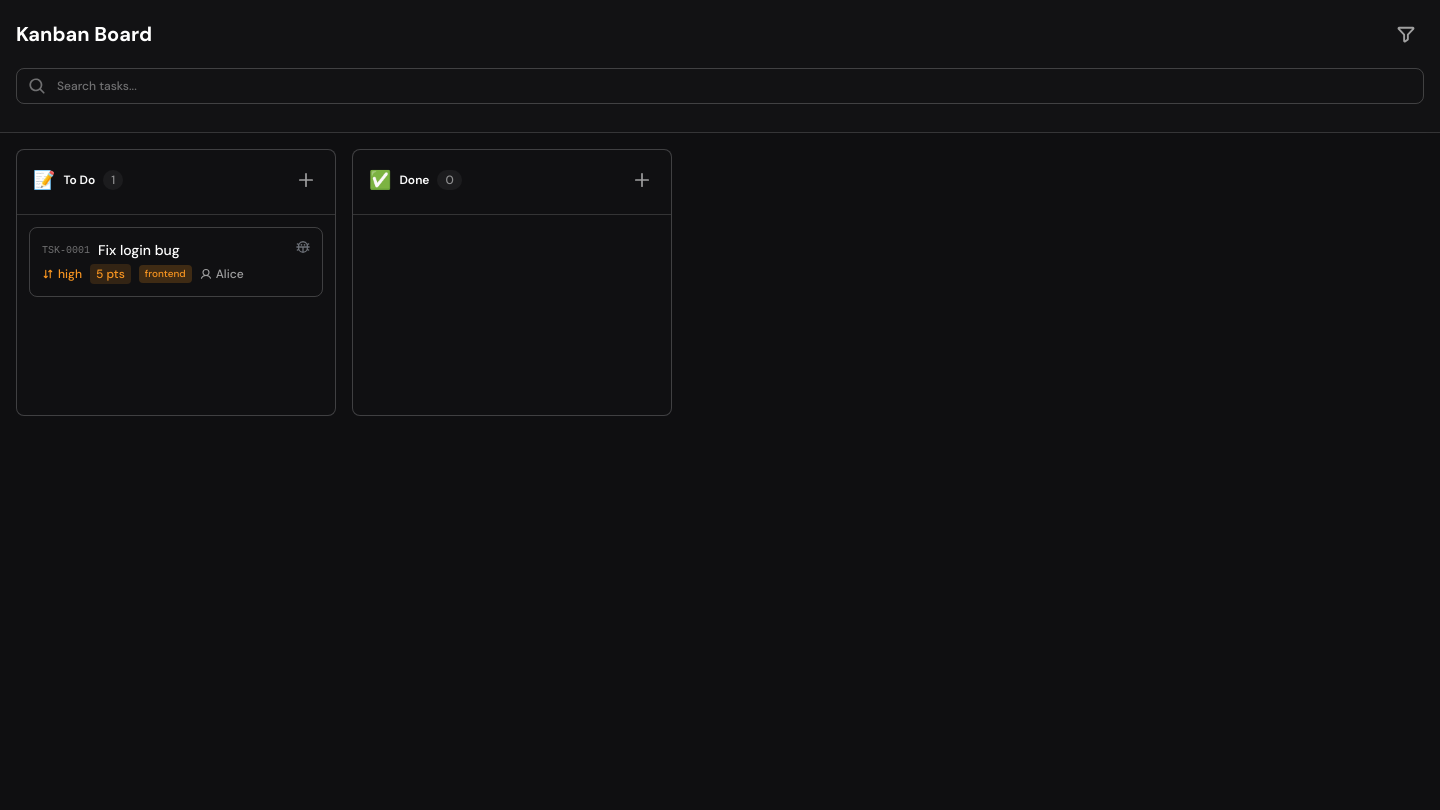
it: KanbanPanel › shows point_value in task details modal
// Click the task card to open details
Click the heading "Fix login bug" at coordinates (139, 250), box [98, 241, 180, 259]
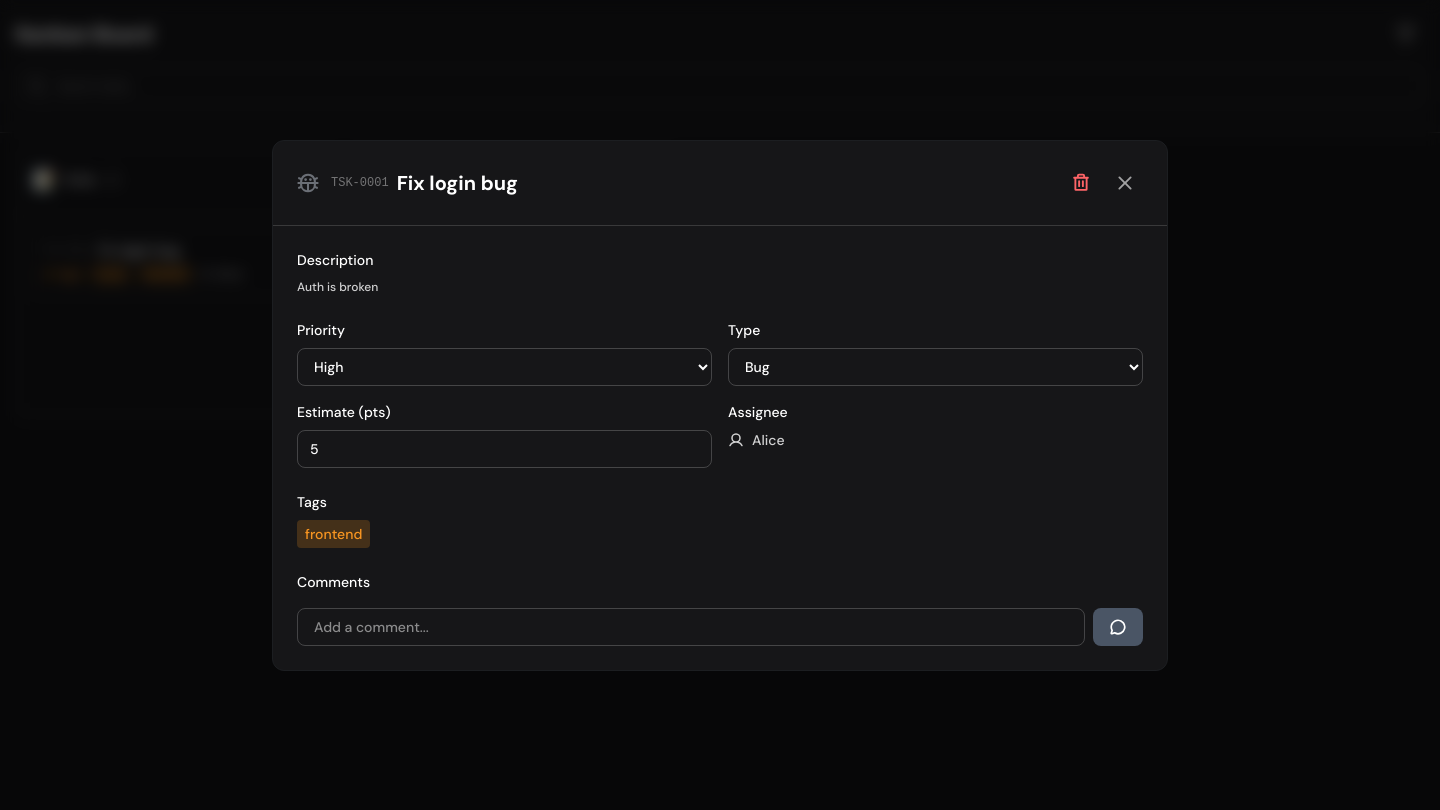
Now the text "Estimate (pts)" is shown, box [297, 402, 391, 420]
